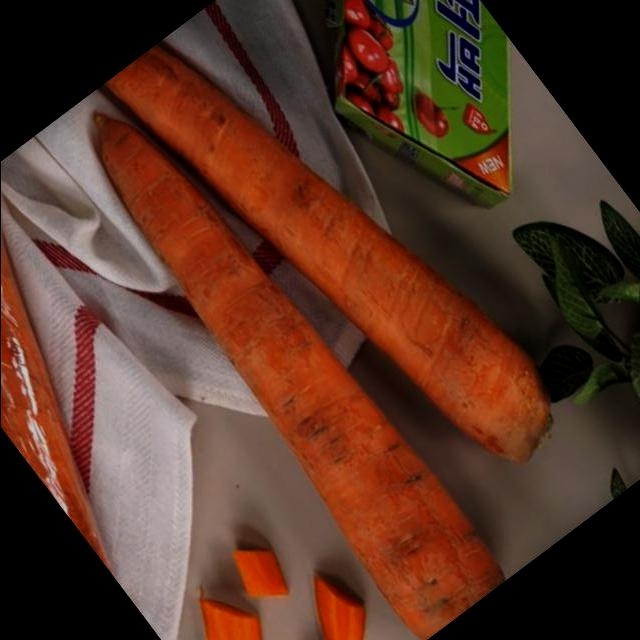carrot: (41, 77, 514, 640), (102, 0, 580, 531), (143, 507, 403, 640)
